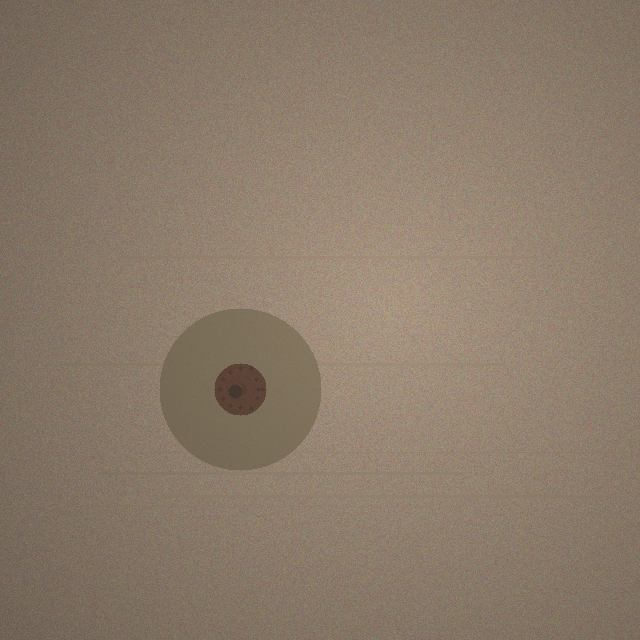cold_weld: (159, 308, 321, 470)
